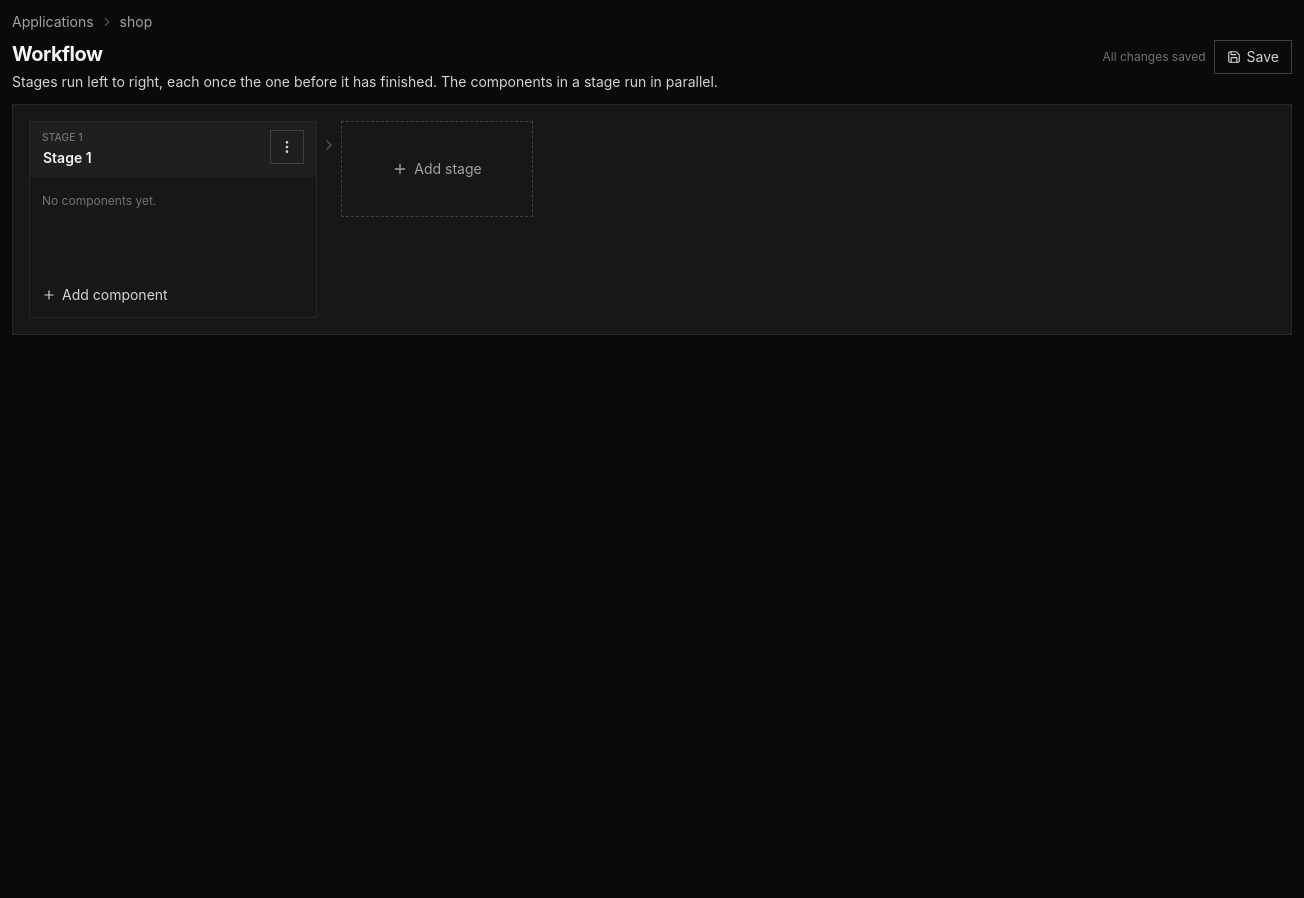
WorkflowBuilder › following a breadcrumb out of a freshly added component discards it
This screenshot has width=1304, height=898.
expect the text "No components yet." is shown: met, box left=42, top=193, right=156, bottom=208
Click the button with aria-label "Add a component to Stage 1": point(105, 295) left=38, top=281, right=172, bottom=309
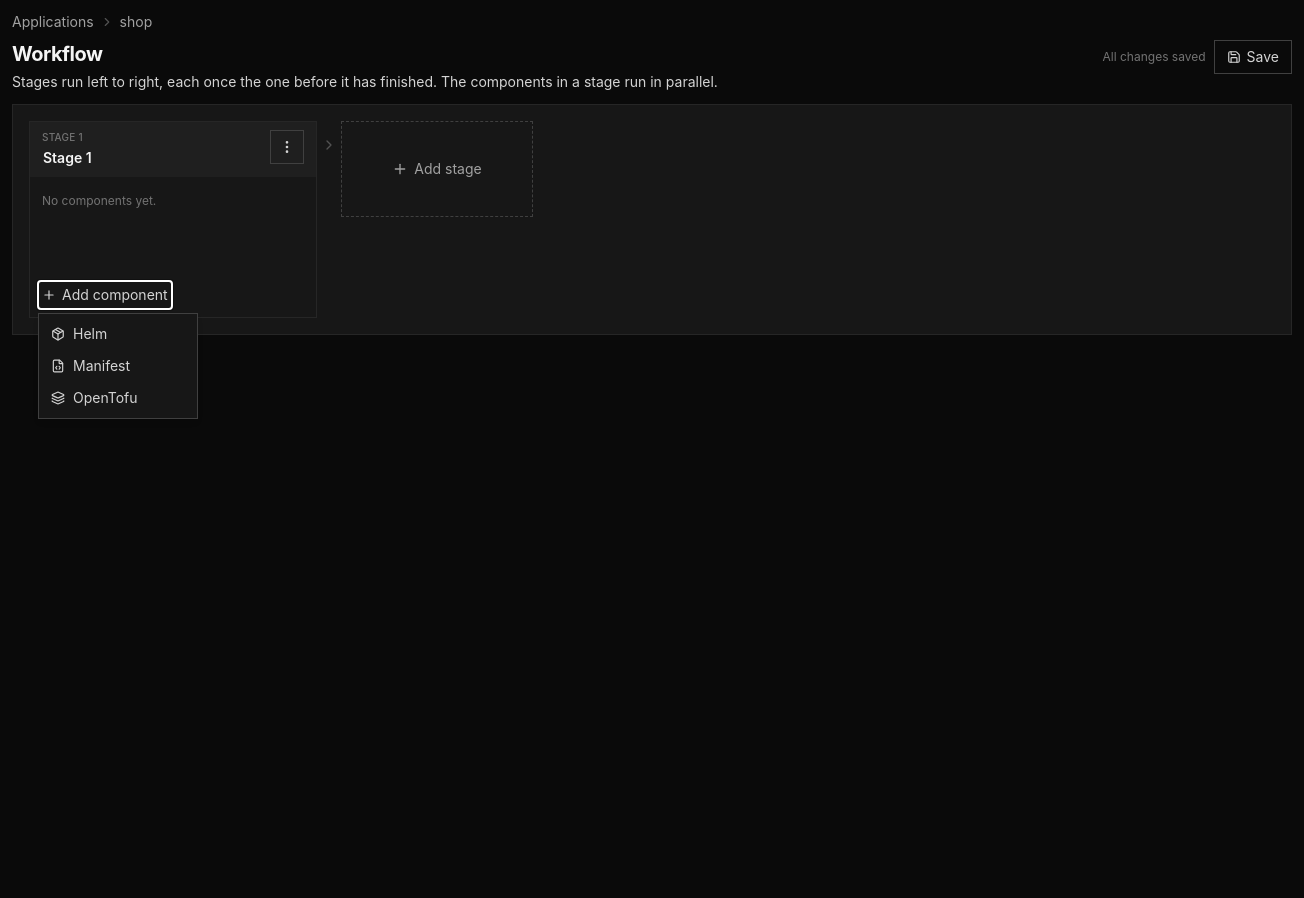
Click the menu item "Helm": point(118, 334) left=39, top=318, right=197, bottom=350
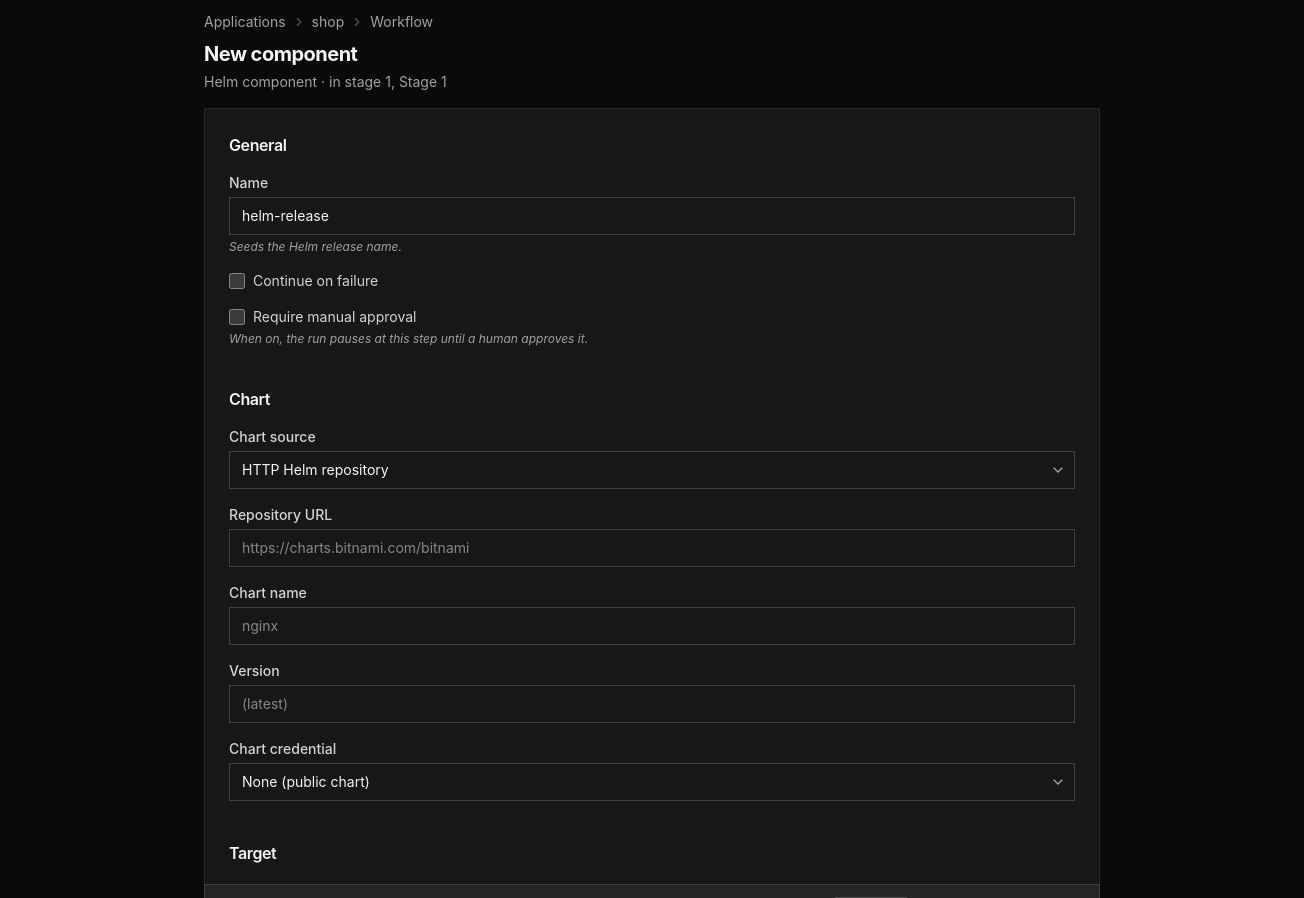
Click the link "Workflow": point(402, 22) left=370, top=12, right=433, bottom=32
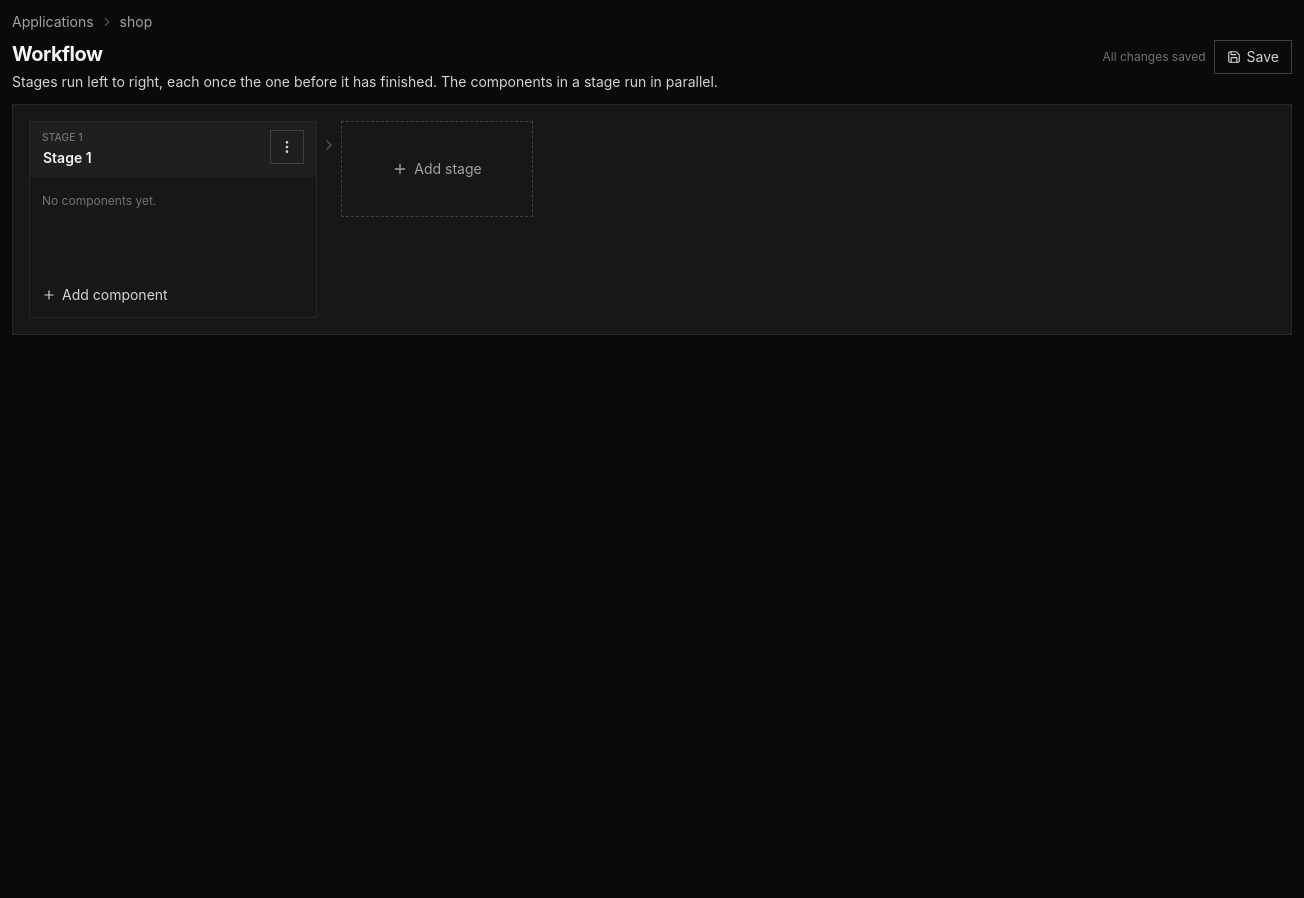
expect the text "No components yet." is shown: met, box left=42, top=193, right=156, bottom=208
